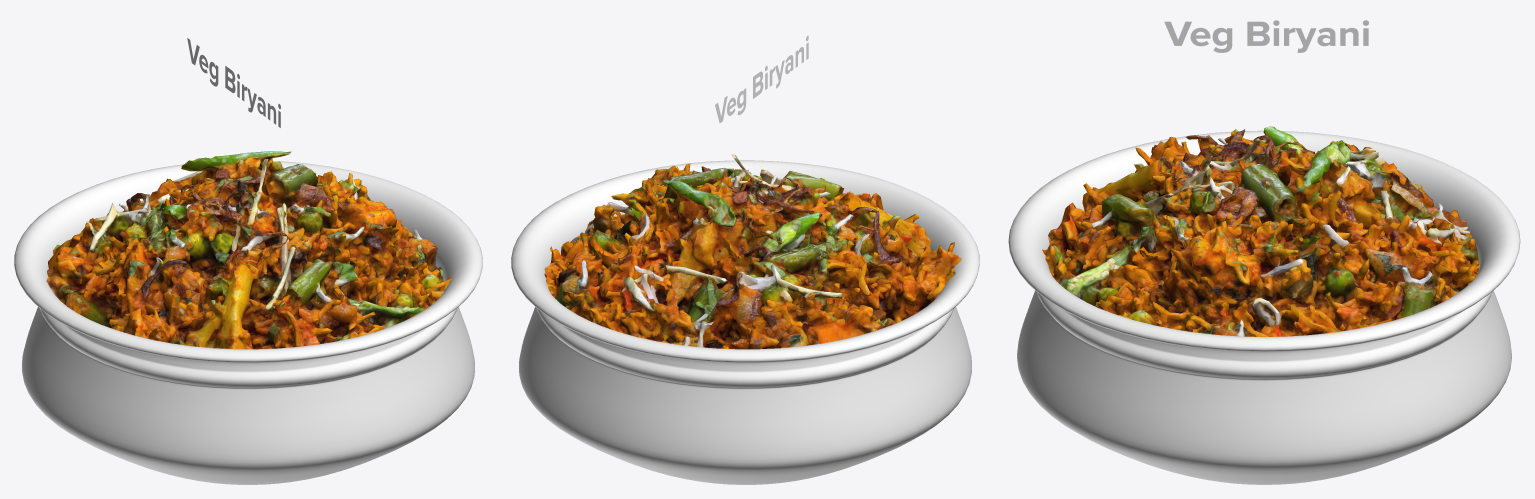
The model's file is vegbiryani.glb.
3 renders of one model, left to right at view 1: azimuth 30°, elevation 25°; view 2: azimuth 150°, elevation 25°; view 3: azimuth 270°, elevation 25°, orthographic. The views are drawn at different scales.
Visible parts, largest first — view 1: Chap_biryani_23_09_27:pCylinder2, Veg_biryani_23_09_04:Veg_biryani_23_09_04:pCube2, name:name:pPlane2.001; view 2: Chap_biryani_23_09_27:pCylinder2, Veg_biryani_23_09_04:Veg_biryani_23_09_04:pCube2, name:name:pPlane2.001; view 3: Chap_biryani_23_09_27:pCylinder2, Veg_biryani_23_09_04:Veg_biryani_23_09_04:pCube2, pPlane2.
Boxes of the visible parts, left/top/right/bottom form: Chap_biryani_23_09_27:pCylinder2: left=14, top=161, right=482, bottom=484; Veg_biryani_23_09_04:Veg_biryani_23_09_04:pCube2: left=46, top=151, right=452, bottom=349; name:name:pPlane2.001: left=187, top=38, right=280, bottom=127; Chap_biryani_23_09_27:pCylinder2: left=511, top=160, right=979, bottom=484; Veg_biryani_23_09_04:Veg_biryani_23_09_04:pCube2: left=544, top=154, right=961, bottom=349; name:name:pPlane2.001: left=715, top=36, right=808, bottom=122; Chap_biryani_23_09_27:pCylinder2: left=1008, top=130, right=1520, bottom=484; Veg_biryani_23_09_04:Veg_biryani_23_09_04:pCube2: left=1042, top=126, right=1479, bottom=336; pPlane2: left=1164, top=20, right=1368, bottom=52.
Size of the model in its own units: 0.2461 by 0.2171 by 0.2461.
Materials: 3 (3 with a texture image).
